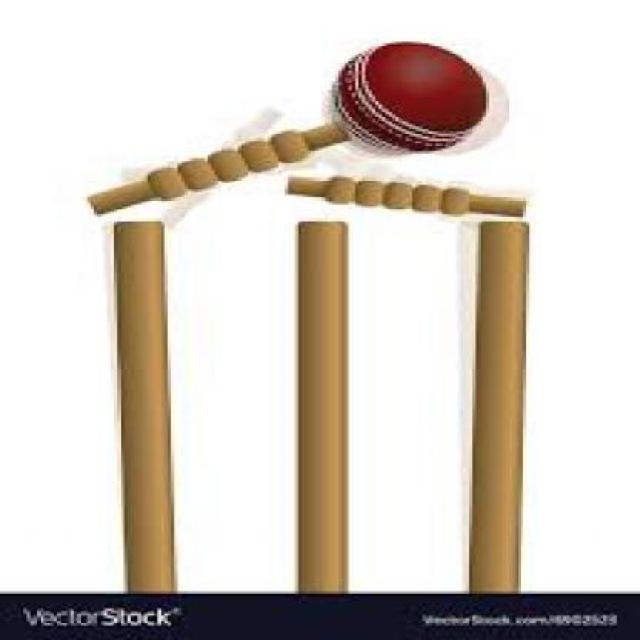ball: (315, 21, 534, 183)
